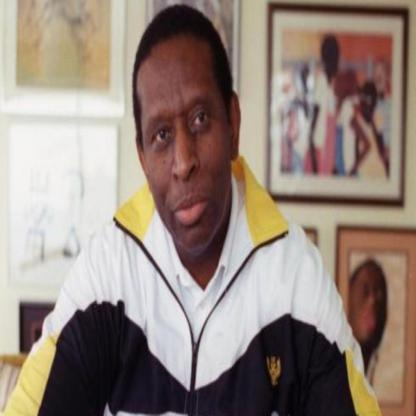face: (139, 36, 233, 258), (353, 265, 389, 342)
